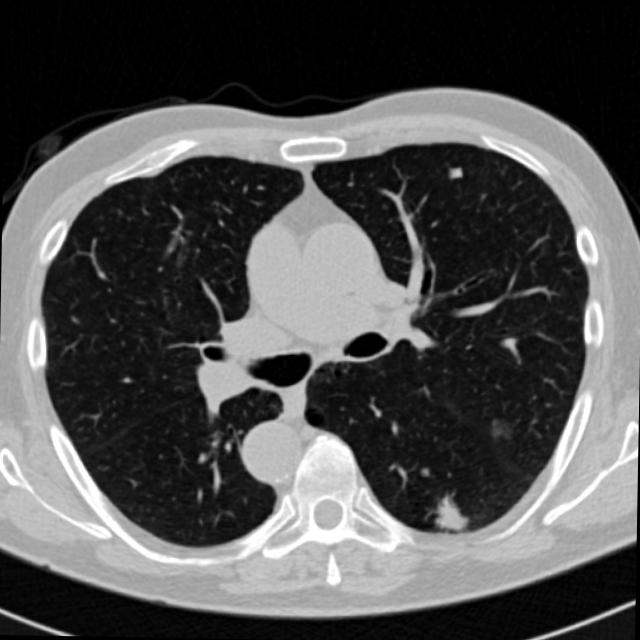nodule: (416, 479, 485, 548)
